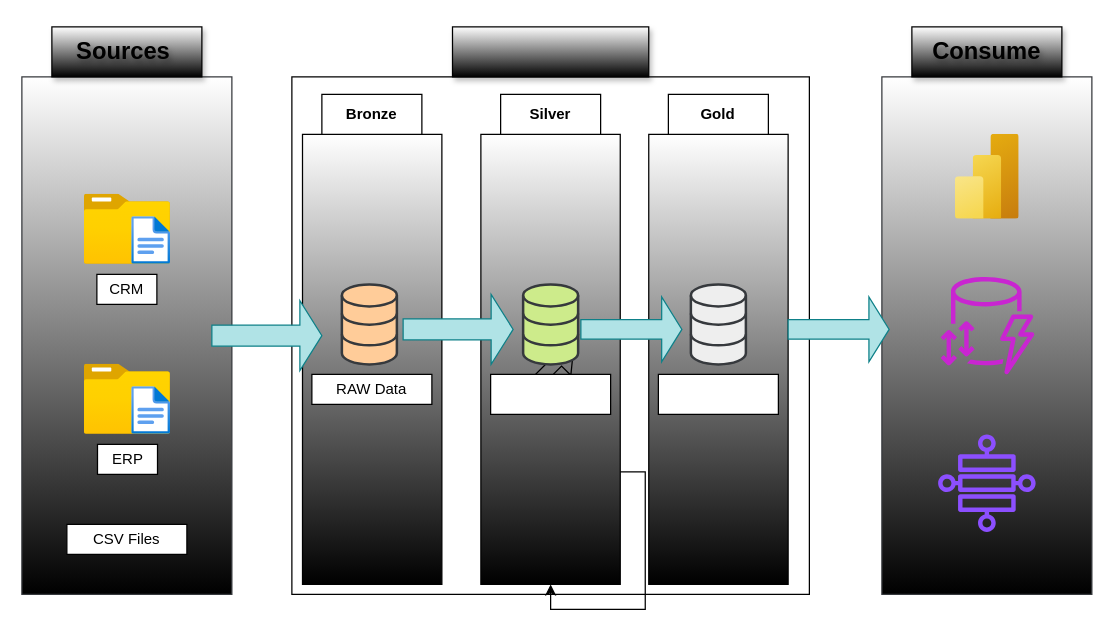
Image size: 1114x641. Some labels were removed from this diagram. The centre of each missing label's shape, as x and y in pixels:
"Business Ready Data" belongs at [717,393].
"Cleaned, Standized Data" belongs at [550,393].
"Data Warehouse" belongs at [551,53].
